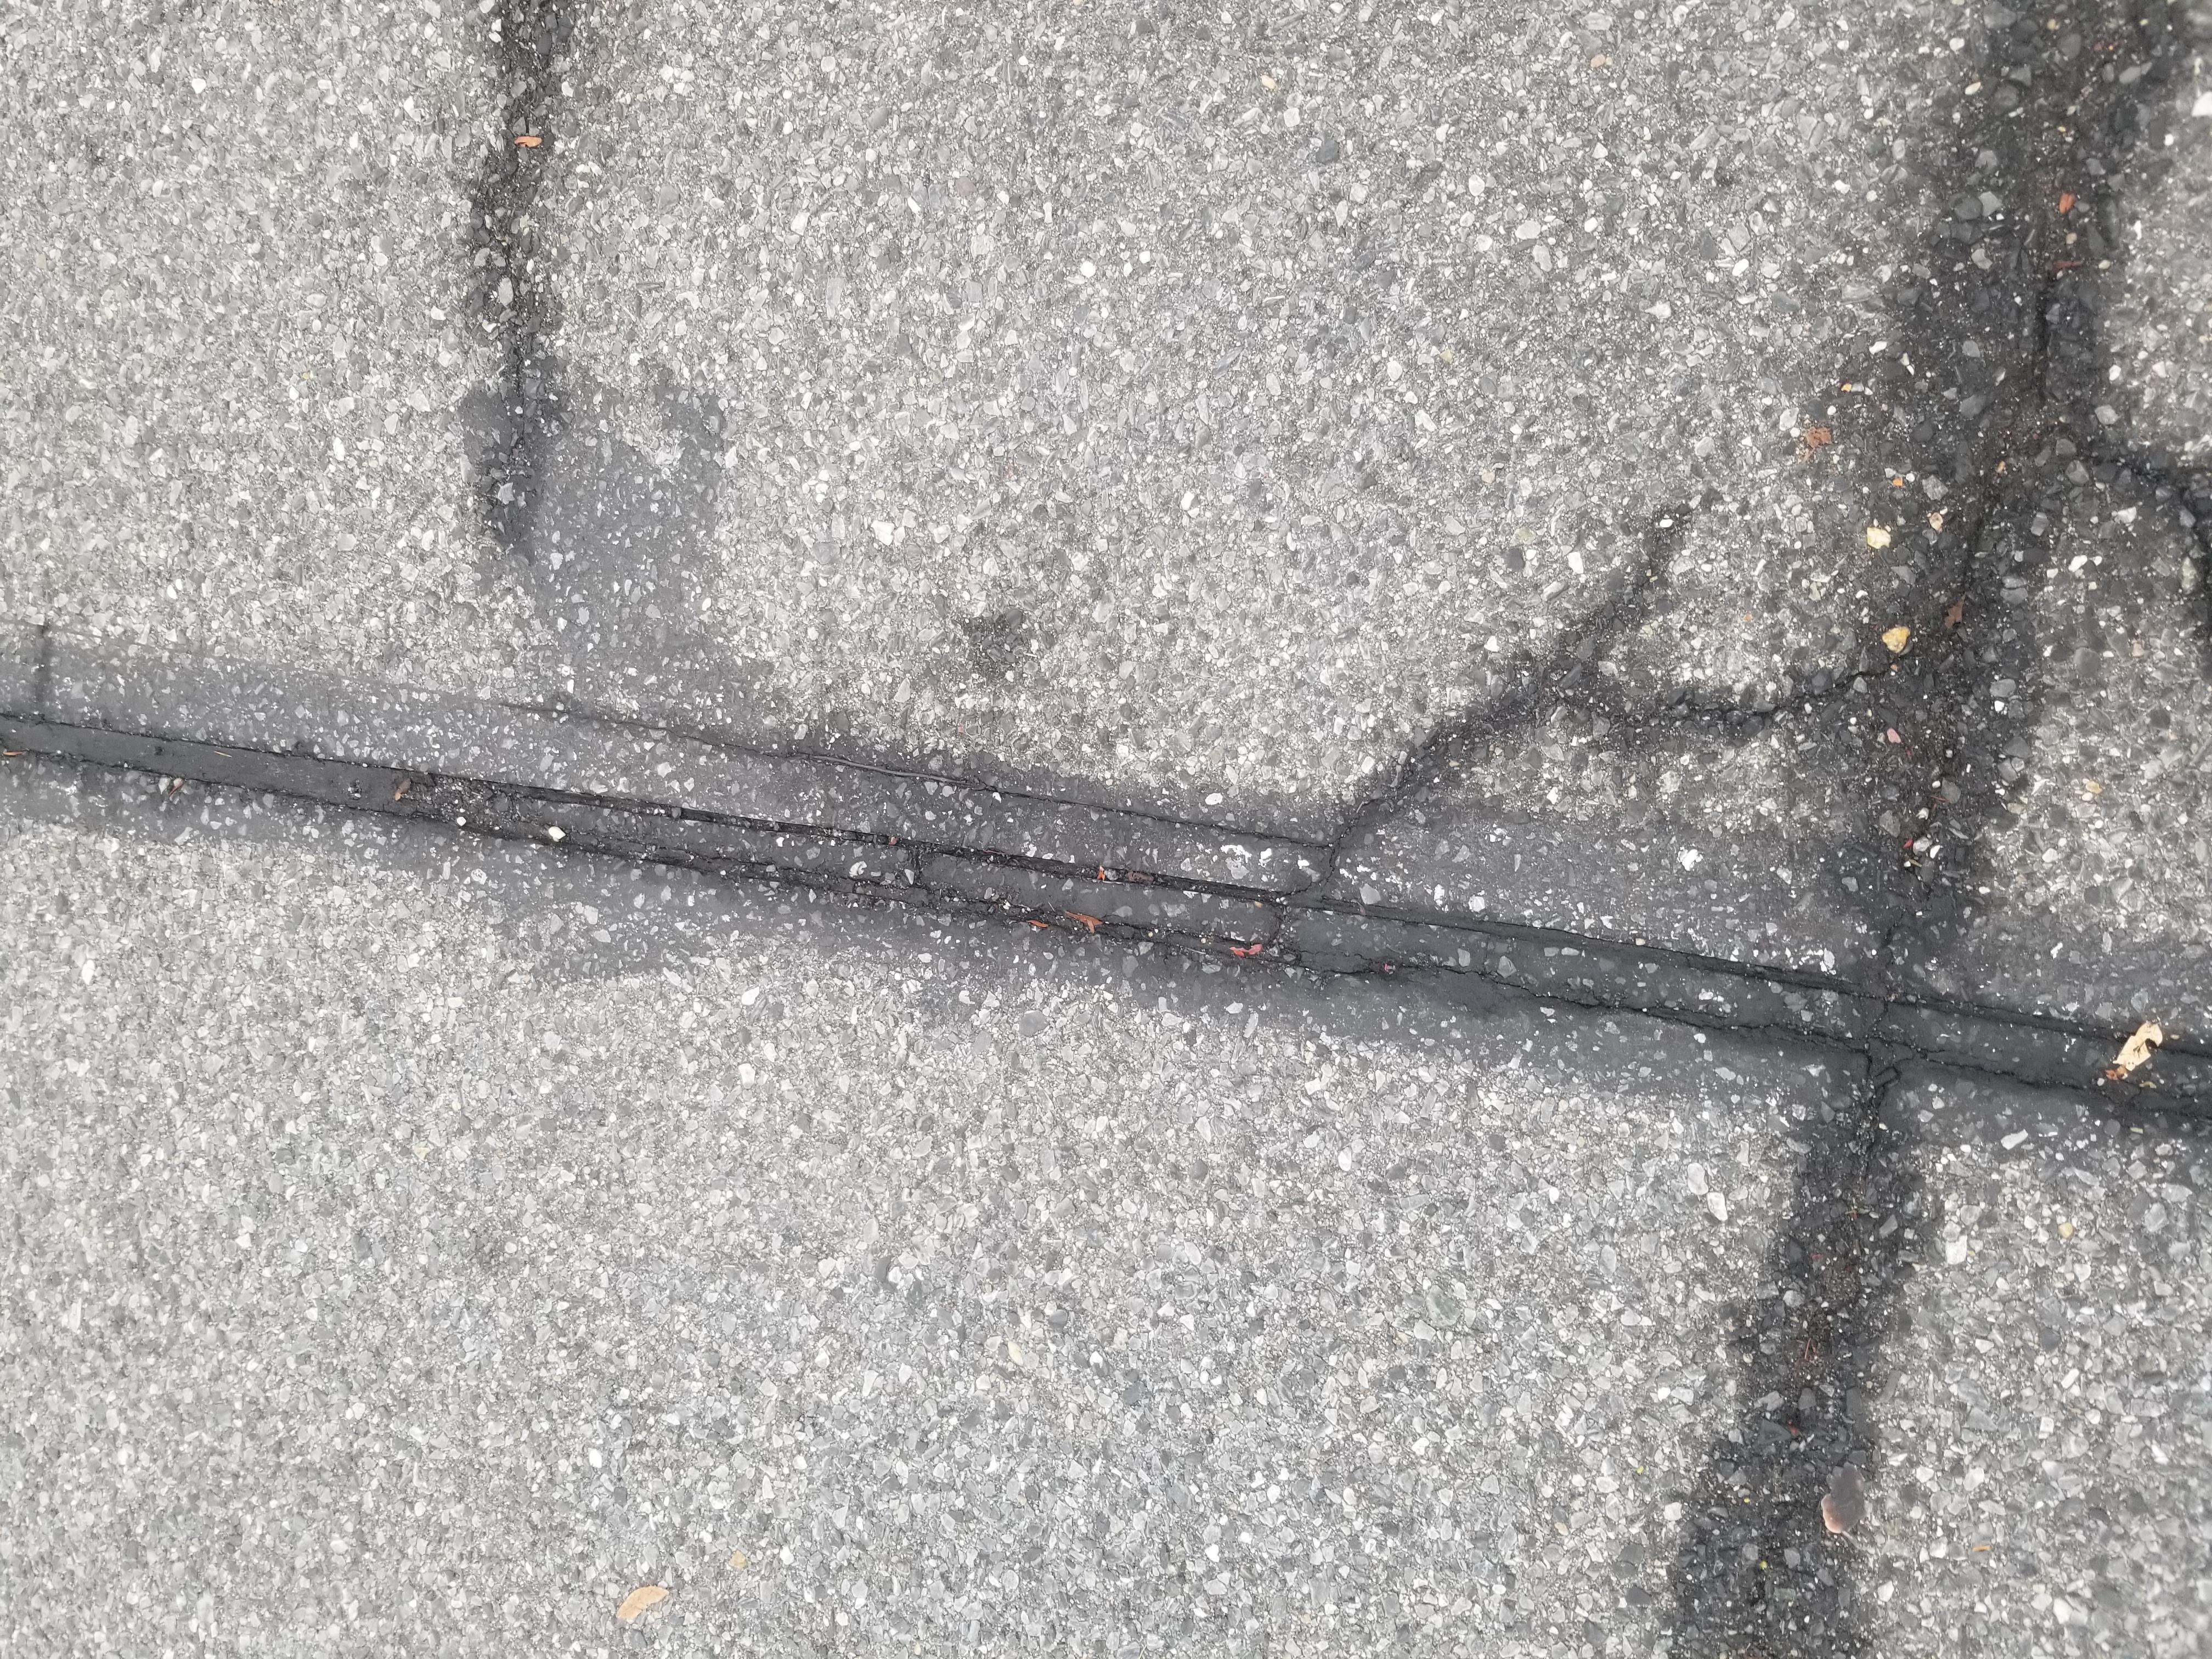crack: (615, 19, 1291, 1659), (1310, 1422, 2059, 1659)
